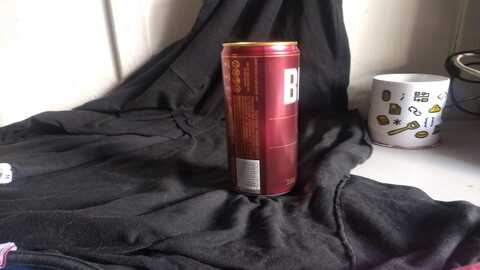duplo_malte: (217, 33, 312, 201)
